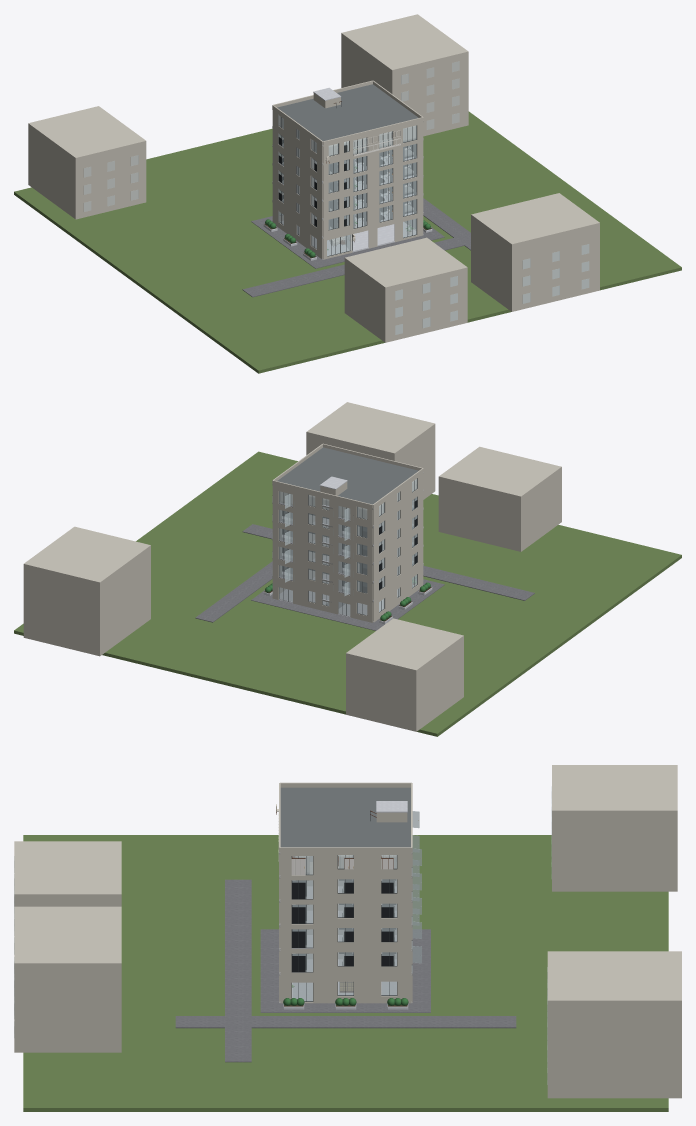
Rendered from model-preview.glb.
3 renders of one model, top to bottom at view 1: azimuth 30°, elevation 25°; view 2: azimuth 150°, elevation 25°; view 3: azimuth 270°, elevation 25°, orthographic. The views are drawn at different scales.
Parts seen in each view (by area): view 1: STATIC_SITE_草坪_Grass, BATCH_SITE_外墙暖白石材_Exterior, BATCH_SHELL_外墙暖白石材_Exterior, BATCH_SHELL_低反玻璃_WindowGlass, STATIC_ROOF_屋顶防水_Roof, BATCH_SITE_室外石材铺装_StonePaving, BATCH_SITE_低反玻璃_WindowGlass, BATCH_SHELL_深灰金属_WindowMetal, BATCH_ROOF_外墙暖白石材_Exterior, BATCH_F01_浅灰大理石_LightMarble; view 2: STATIC_SITE_草坪_Grass, BATCH_SITE_外墙暖白石材_Exterior, BATCH_SHELL_外墙暖白石材_Exterior, BATCH_SHELL_低反玻璃_WindowGlass, BATCH_SITE_室外石材铺装_StonePaving, STATIC_ROOF_屋顶防水_Roof, BATCH_ROOF_外墙暖白石材_Exterior, BATCH_SHELL_深灰金属_WindowMetal; view 3: STATIC_SITE_草坪_Grass, BATCH_SITE_外墙暖白石材_Exterior, BATCH_SHELL_外墙暖白石材_Exterior, BATCH_SITE_室外石材铺装_StonePaving, STATIC_ROOF_屋顶防水_Roof, BATCH_SHELL_低反玻璃_WindowGlass, BATCH_ROOF_外墙暖白石材_Exterior, BATCH_SHELL_深灰金属_WindowMetal, BATCH_F01_浅灰大理石_LightMarble, BATCH_F02_GTA黑色烤漆_BlackLacquer, BATCH_F04_GTA黑色烤漆_BlackLacquer, BATCH_F05_GTA黑色烤漆_BlackLacquer (+2 smaller).
Boxes of the visible parts, box(x1,y1,x2,y2) form: STATIC_SITE_草坪_Grass: box(14, 111, 681, 373); BATCH_SITE_外墙暖白石材_Exterior: box(28, 14, 599, 342); BATCH_SHELL_外墙暖白石材_Exterior: box(272, 109, 423, 259); BATCH_SHELL_低反玻璃_WindowGlass: box(278, 115, 416, 256); STATIC_ROOF_屋顶防水_Roof: box(277, 84, 418, 141); BATCH_SITE_室外石材铺装_StonePaving: box(242, 198, 470, 297); BATCH_SITE_低反玻璃_WindowGlass: box(83, 61, 589, 334); BATCH_SHELL_深灰金属_WindowMetal: box(278, 115, 416, 256); BATCH_ROOF_外墙暖白石材_Exterior: box(272, 80, 423, 145); BATCH_F01_浅灰大理石_LightMarble: box(280, 221, 415, 255); STATIC_SITE_草坪_Grass: box(14, 451, 681, 736); BATCH_SITE_外墙暖白石材_Exterior: box(23, 402, 561, 731); BATCH_SHELL_外墙暖白石材_Exterior: box(272, 472, 423, 622); BATCH_SHELL_低反玻璃_WindowGlass: box(272, 478, 417, 615); BATCH_SITE_室外石材铺装_StonePaving: box(195, 524, 534, 630); STATIC_ROOF_屋顶防水_Roof: box(277, 447, 418, 504); BATCH_ROOF_外墙暖白石材_Exterior: box(272, 443, 423, 508); BATCH_SHELL_深灰金属_WindowMetal: box(279, 478, 417, 615); STATIC_SITE_草坪_Grass: box(23, 835, 668, 1111); BATCH_SITE_外墙暖白石材_Exterior: box(14, 765, 681, 1098); BATCH_SHELL_外墙暖白石材_Exterior: box(279, 852, 412, 1003); BATCH_SITE_室外石材铺装_StonePaving: box(175, 879, 516, 1062); STATIC_ROOF_屋顶防水_Roof: box(280, 787, 410, 847); BATCH_SHELL_低反玻璃_WindowGlass: box(292, 855, 412, 1001); BATCH_ROOF_外墙暖白石材_Exterior: box(279, 782, 412, 852); BATCH_SHELL_深灰金属_WindowMetal: box(291, 855, 412, 1001); BATCH_F01_浅灰大理石_LightMarble: box(279, 981, 396, 1003); BATCH_F02_GTA黑色烤漆_BlackLacquer: box(292, 954, 393, 972); BATCH_F04_GTA黑色烤漆_BlackLacquer: box(292, 905, 393, 923); BATCH_F05_GTA黑色烤漆_BlackLacquer: box(292, 880, 393, 899).
Size of the model in its own units: 72 by 20.57 by 74.53.
Materials: 54 (20 with a texture image).
